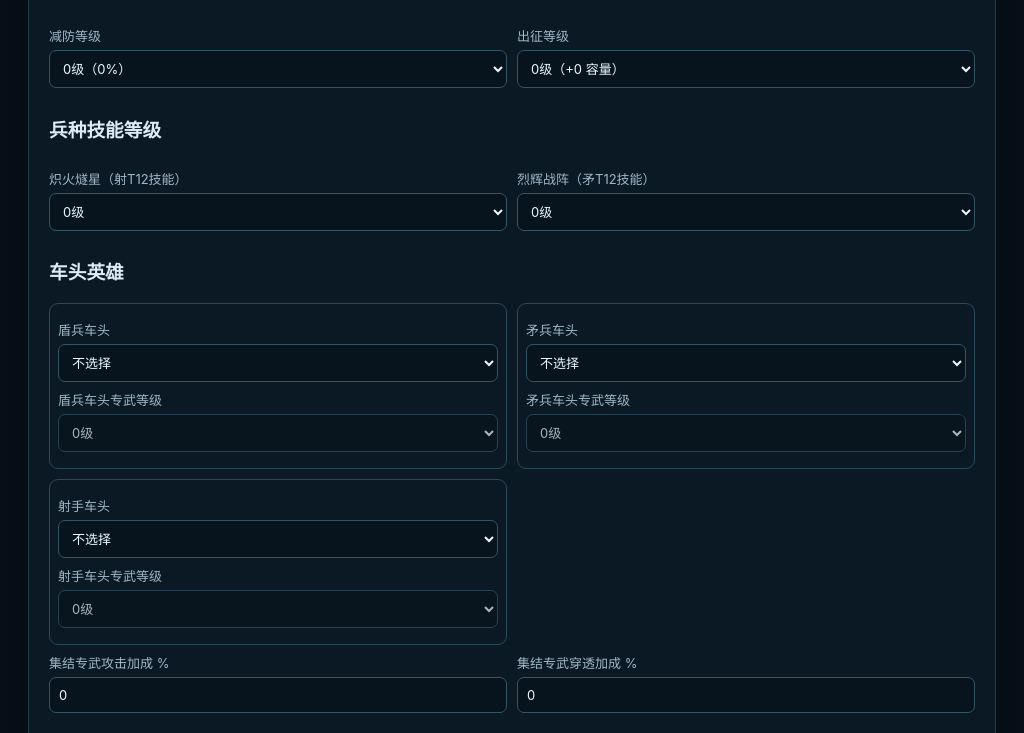
Test: 计算器UI有限选项与技能说明 › 尼莫可选并展示三个正式远征技能
(page scrolled)
Select "尼莫（S1）" in the dropdown labelled "盾兵车头". click: (278, 363)
box: [58,344,498,382]
(page scrolled)
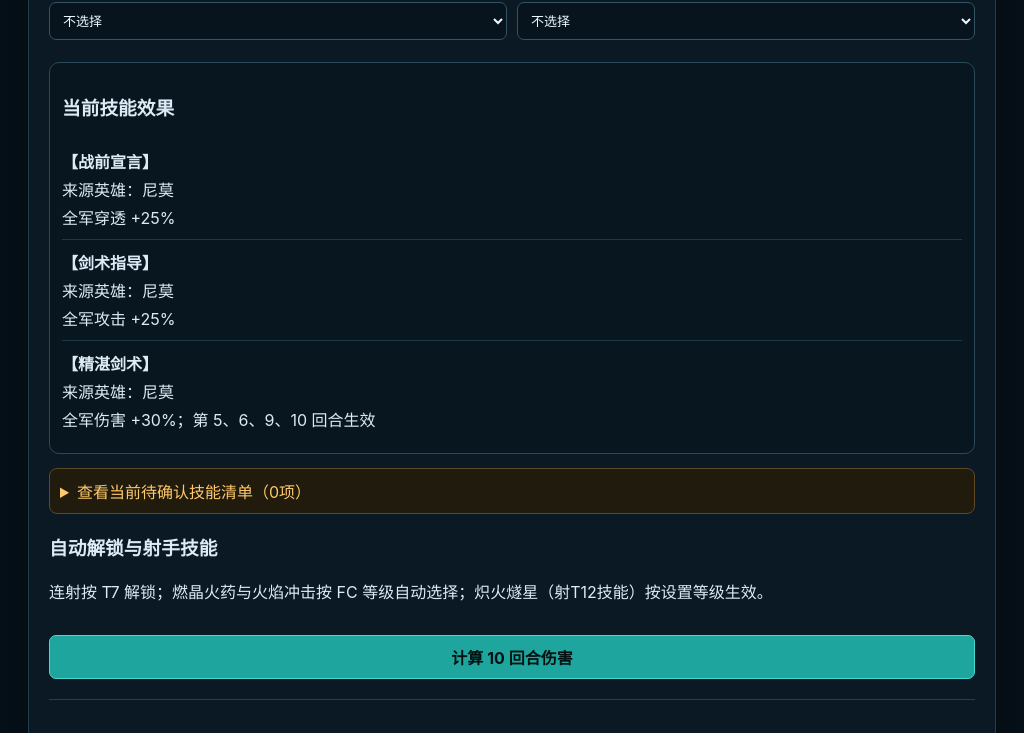
expect the text "【战前宣言】" is shown: met, box [62,152,158,172]
expect the text "【剑术指导】" is shown: met, box [62,253,158,273]
expect the text "【精湛剑术】" is shown: met, box [62,354,158,374]
